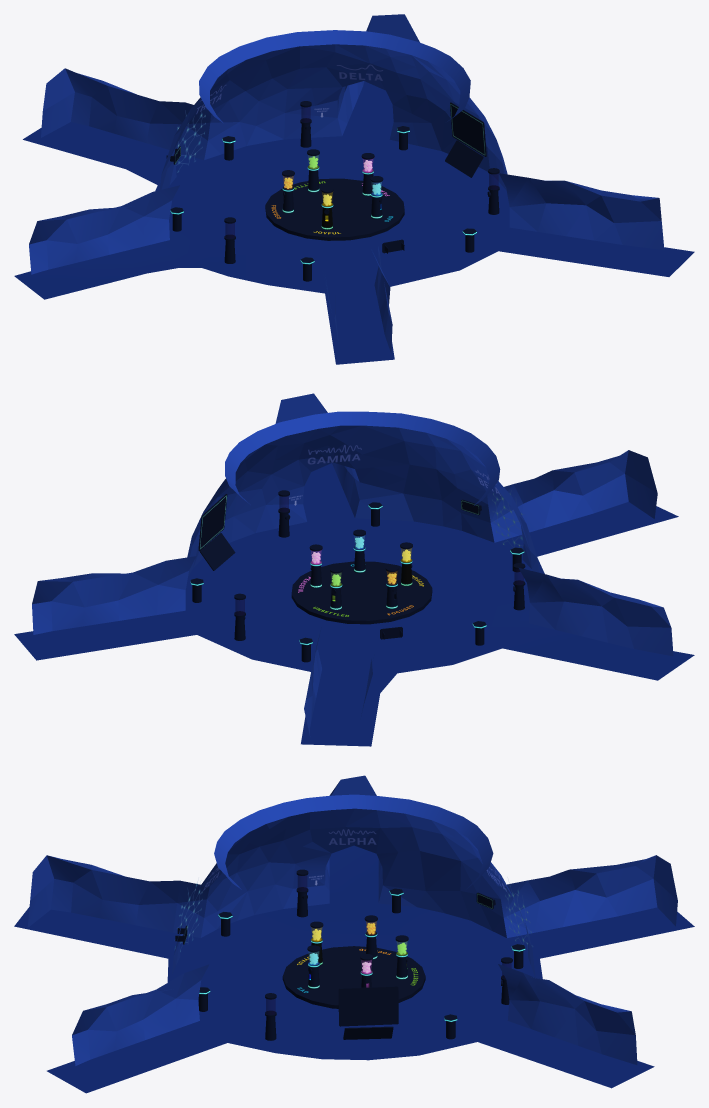
The model's file is room.glb.
The picture shows the model from 3 angles, top to bottom: view 1: azimuth 30°, elevation 25°; view 2: azimuth 150°, elevation 25°; view 3: azimuth 270°, elevation 25°; orthographic projection.
Visible parts, largest first — view 1: room1 mainRoomFloor, room1 mainRoom, central_pedestal room1, room pCube12 new_props1, room new_props1 pCube13; view 2: room1 mainRoomFloor, room1 mainRoom, central_pedestal room1, room pCube12 new_props1, room new_props1 pCube13; view 3: room1 mainRoom, room1 mainRoomFloor, central_pedestal room1, room pCube12 new_props1, room new_props1 pCube13.
Boxes of the visible parts, x1,y1,x2,y2 form: room1 mainRoomFloor: (14,81,694,364); room1 mainRoom: (29,14,664,353); central_pedestal room1: (265,178,404,240); room pCube12 new_props1: (450,102,486,156); room new_props1 pCube13: (445,140,483,177); room1 mainRoomFloor: (14,463,694,746); room1 mainRoom: (32,393,673,736); central_pedestal room1: (291,561,432,624); room pCube12 new_props1: (198,494,227,550); room new_props1 pCube13: (199,533,235,570); room1 mainRoom: (27,775,677,1065); room1 mainRoomFloor: (14,845,694,1093); central_pedestal room1: (282,946,425,1008); room pCube12 new_props1: (338,986,398,1026); room new_props1 pCube13: (343,1026,393,1039).
Size of the model in its own units: 27.02 by 6.02 by 29.01.
10 materials, 10 textured.
